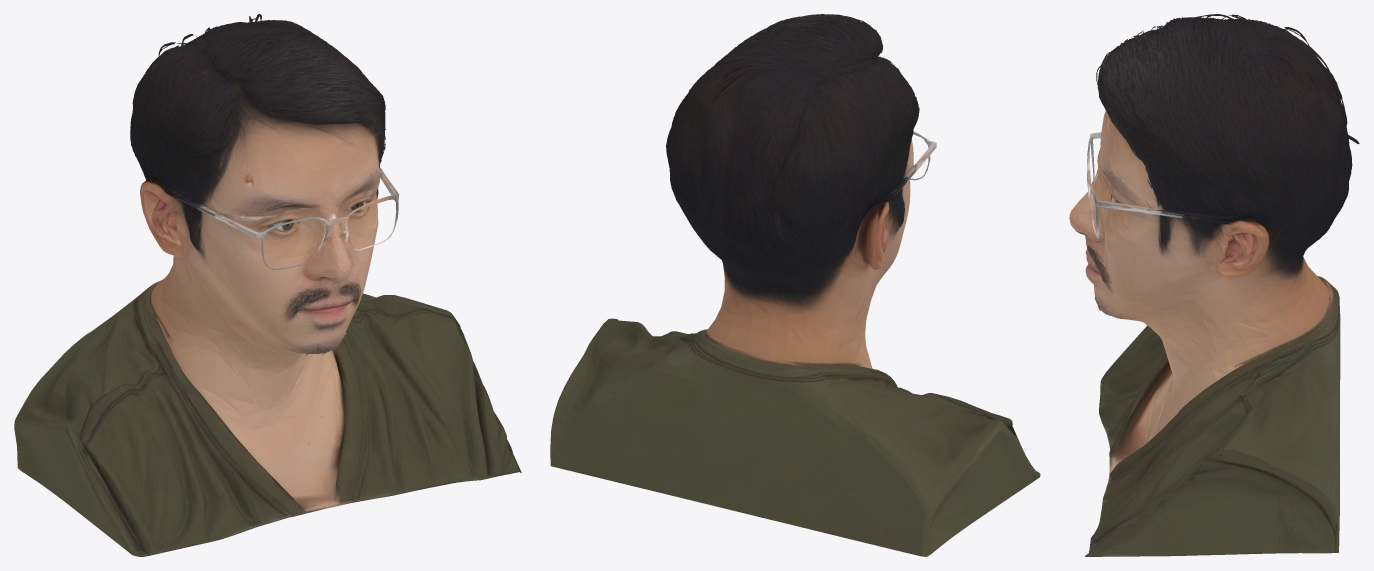
File: avatar.glb
3 renders of one model, left to right at view 1: azimuth 30°, elevation 25°; view 2: azimuth 150°, elevation 25°; view 3: azimuth 270°, elevation 25°, orthographic.
Parts seen in each view (by area): view 1: node_0; view 2: node_0; view 3: node_0.
Boxes of the visible parts, bbox=[...] form: node_0: bbox=[14, 14, 521, 556]; node_0: bbox=[550, 14, 1040, 556]; node_0: bbox=[1069, 14, 1359, 556].
Bounding box in the file's own units: 0.7441 × 0.8087 × 0.4853.
1 material, 1 textured.
